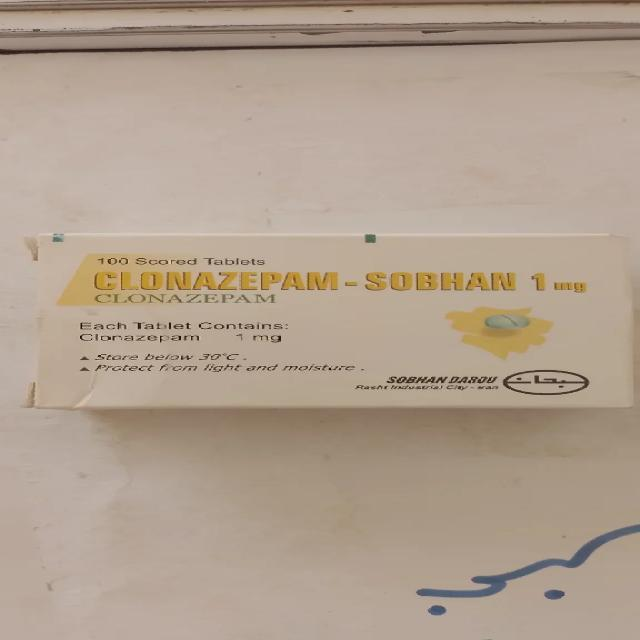drug-name: (94, 270, 518, 292)
